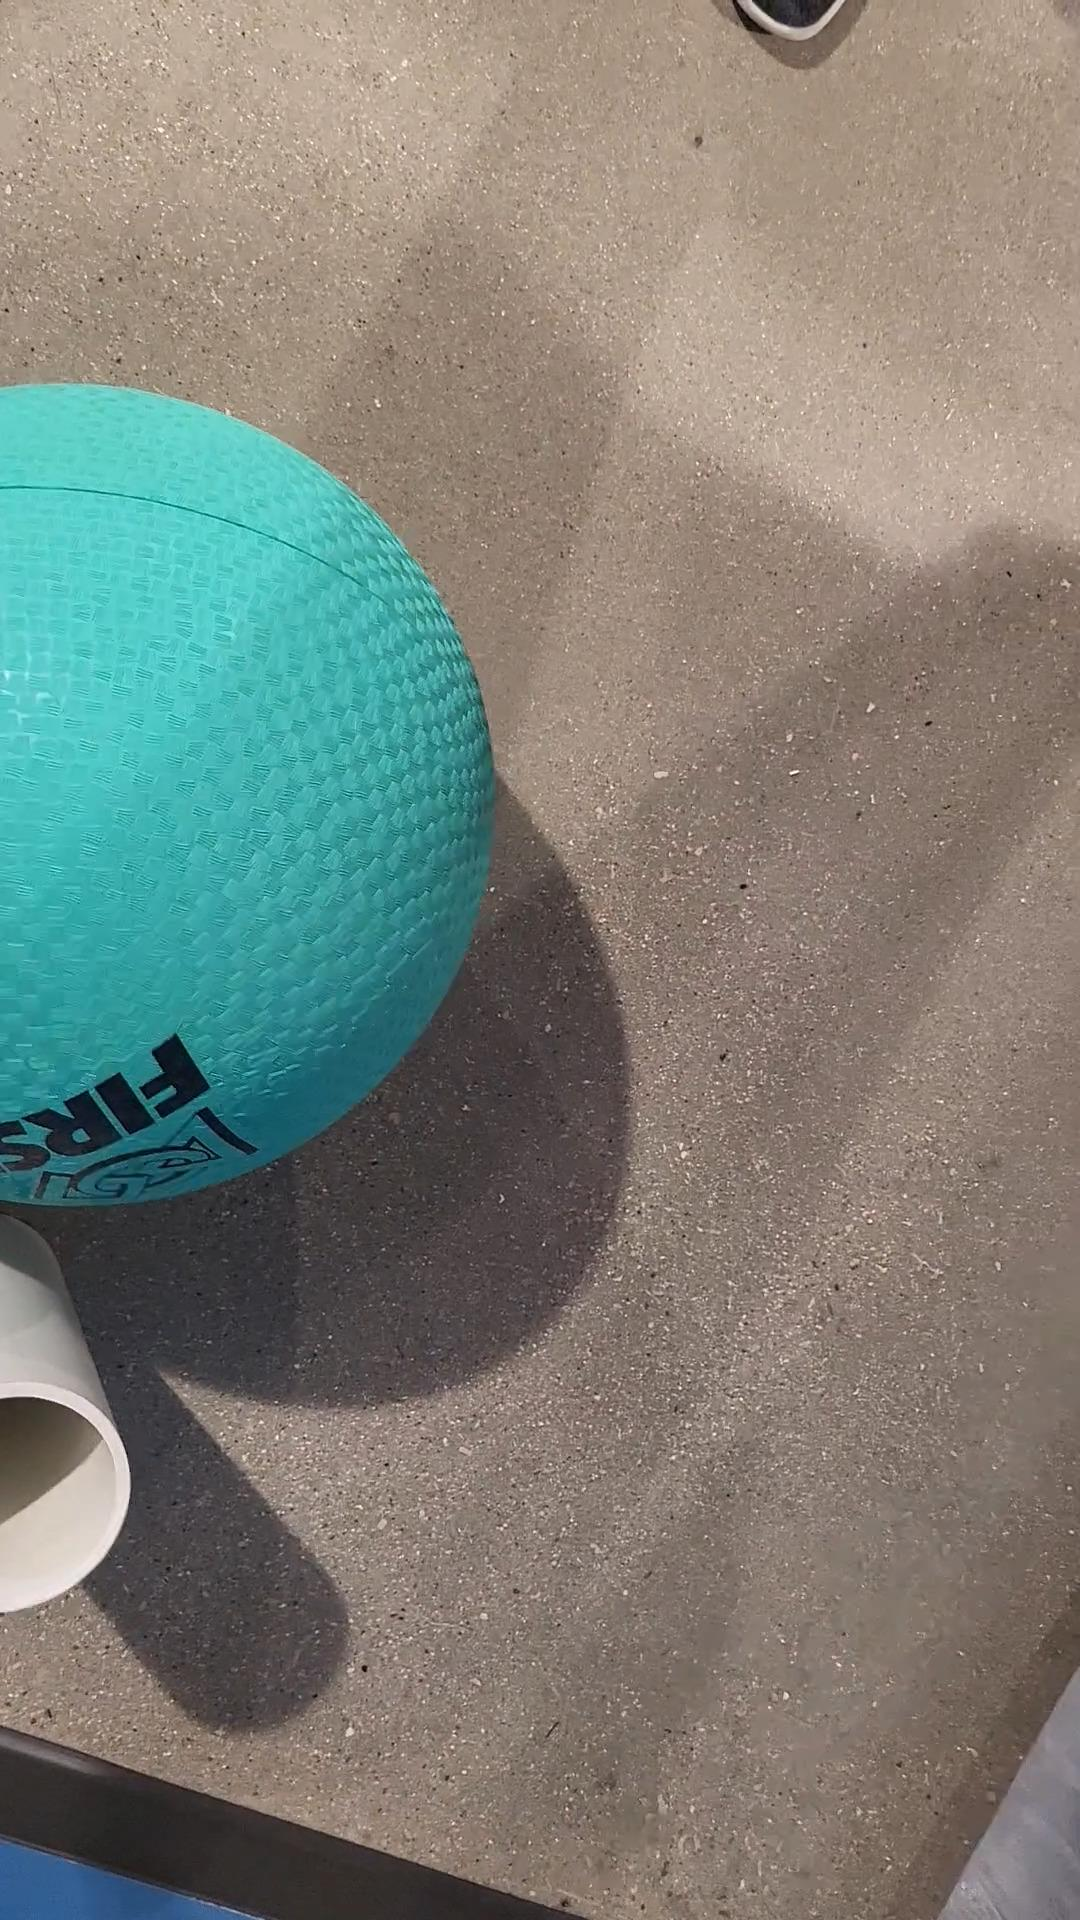algae: (3, 385, 500, 1208)
coral: (0, 1208, 135, 1635)
